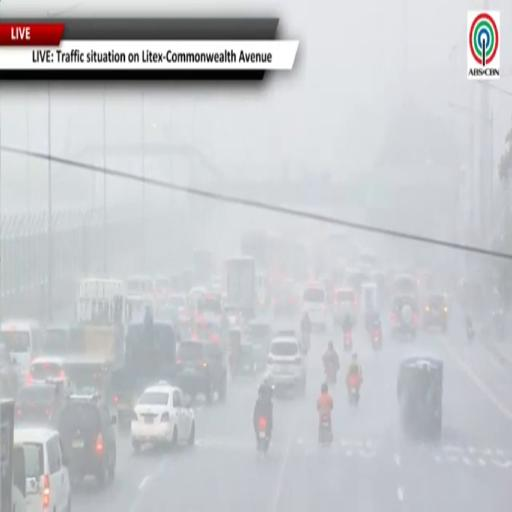car: (59, 393, 116, 486), (14, 428, 71, 511), (132, 381, 194, 452), (397, 357, 443, 440), (176, 341, 227, 402), (267, 332, 306, 395), (15, 382, 66, 427), (245, 319, 272, 370), (391, 294, 419, 339), (27, 357, 67, 386), (303, 282, 327, 330), (272, 280, 299, 316), (423, 294, 448, 332), (333, 287, 358, 325), (0, 344, 18, 396), (195, 293, 223, 325)
motorcycle: (257, 416, 269, 454), (319, 413, 333, 443), (348, 375, 359, 406), (325, 362, 338, 385), (343, 329, 353, 351), (371, 329, 381, 350), (302, 331, 310, 353), (467, 327, 474, 343)
truck: (44, 279, 130, 393), (110, 317, 179, 430), (0, 398, 26, 511), (226, 256, 256, 317)
